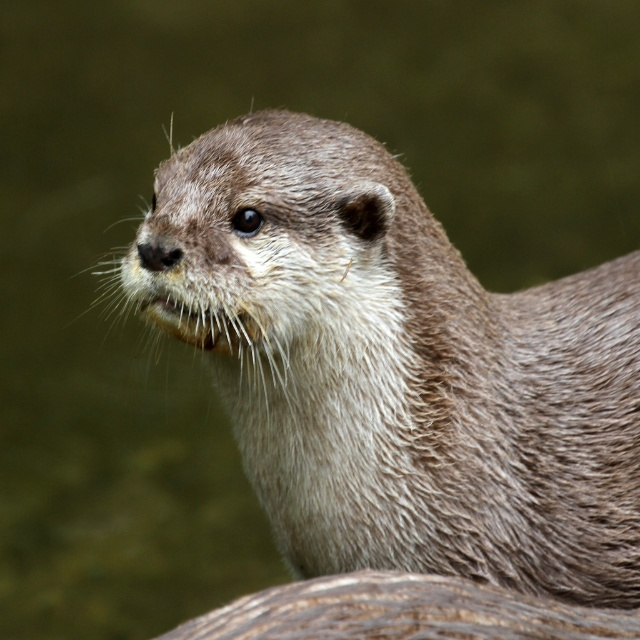Otter: (68, 97, 640, 610)
